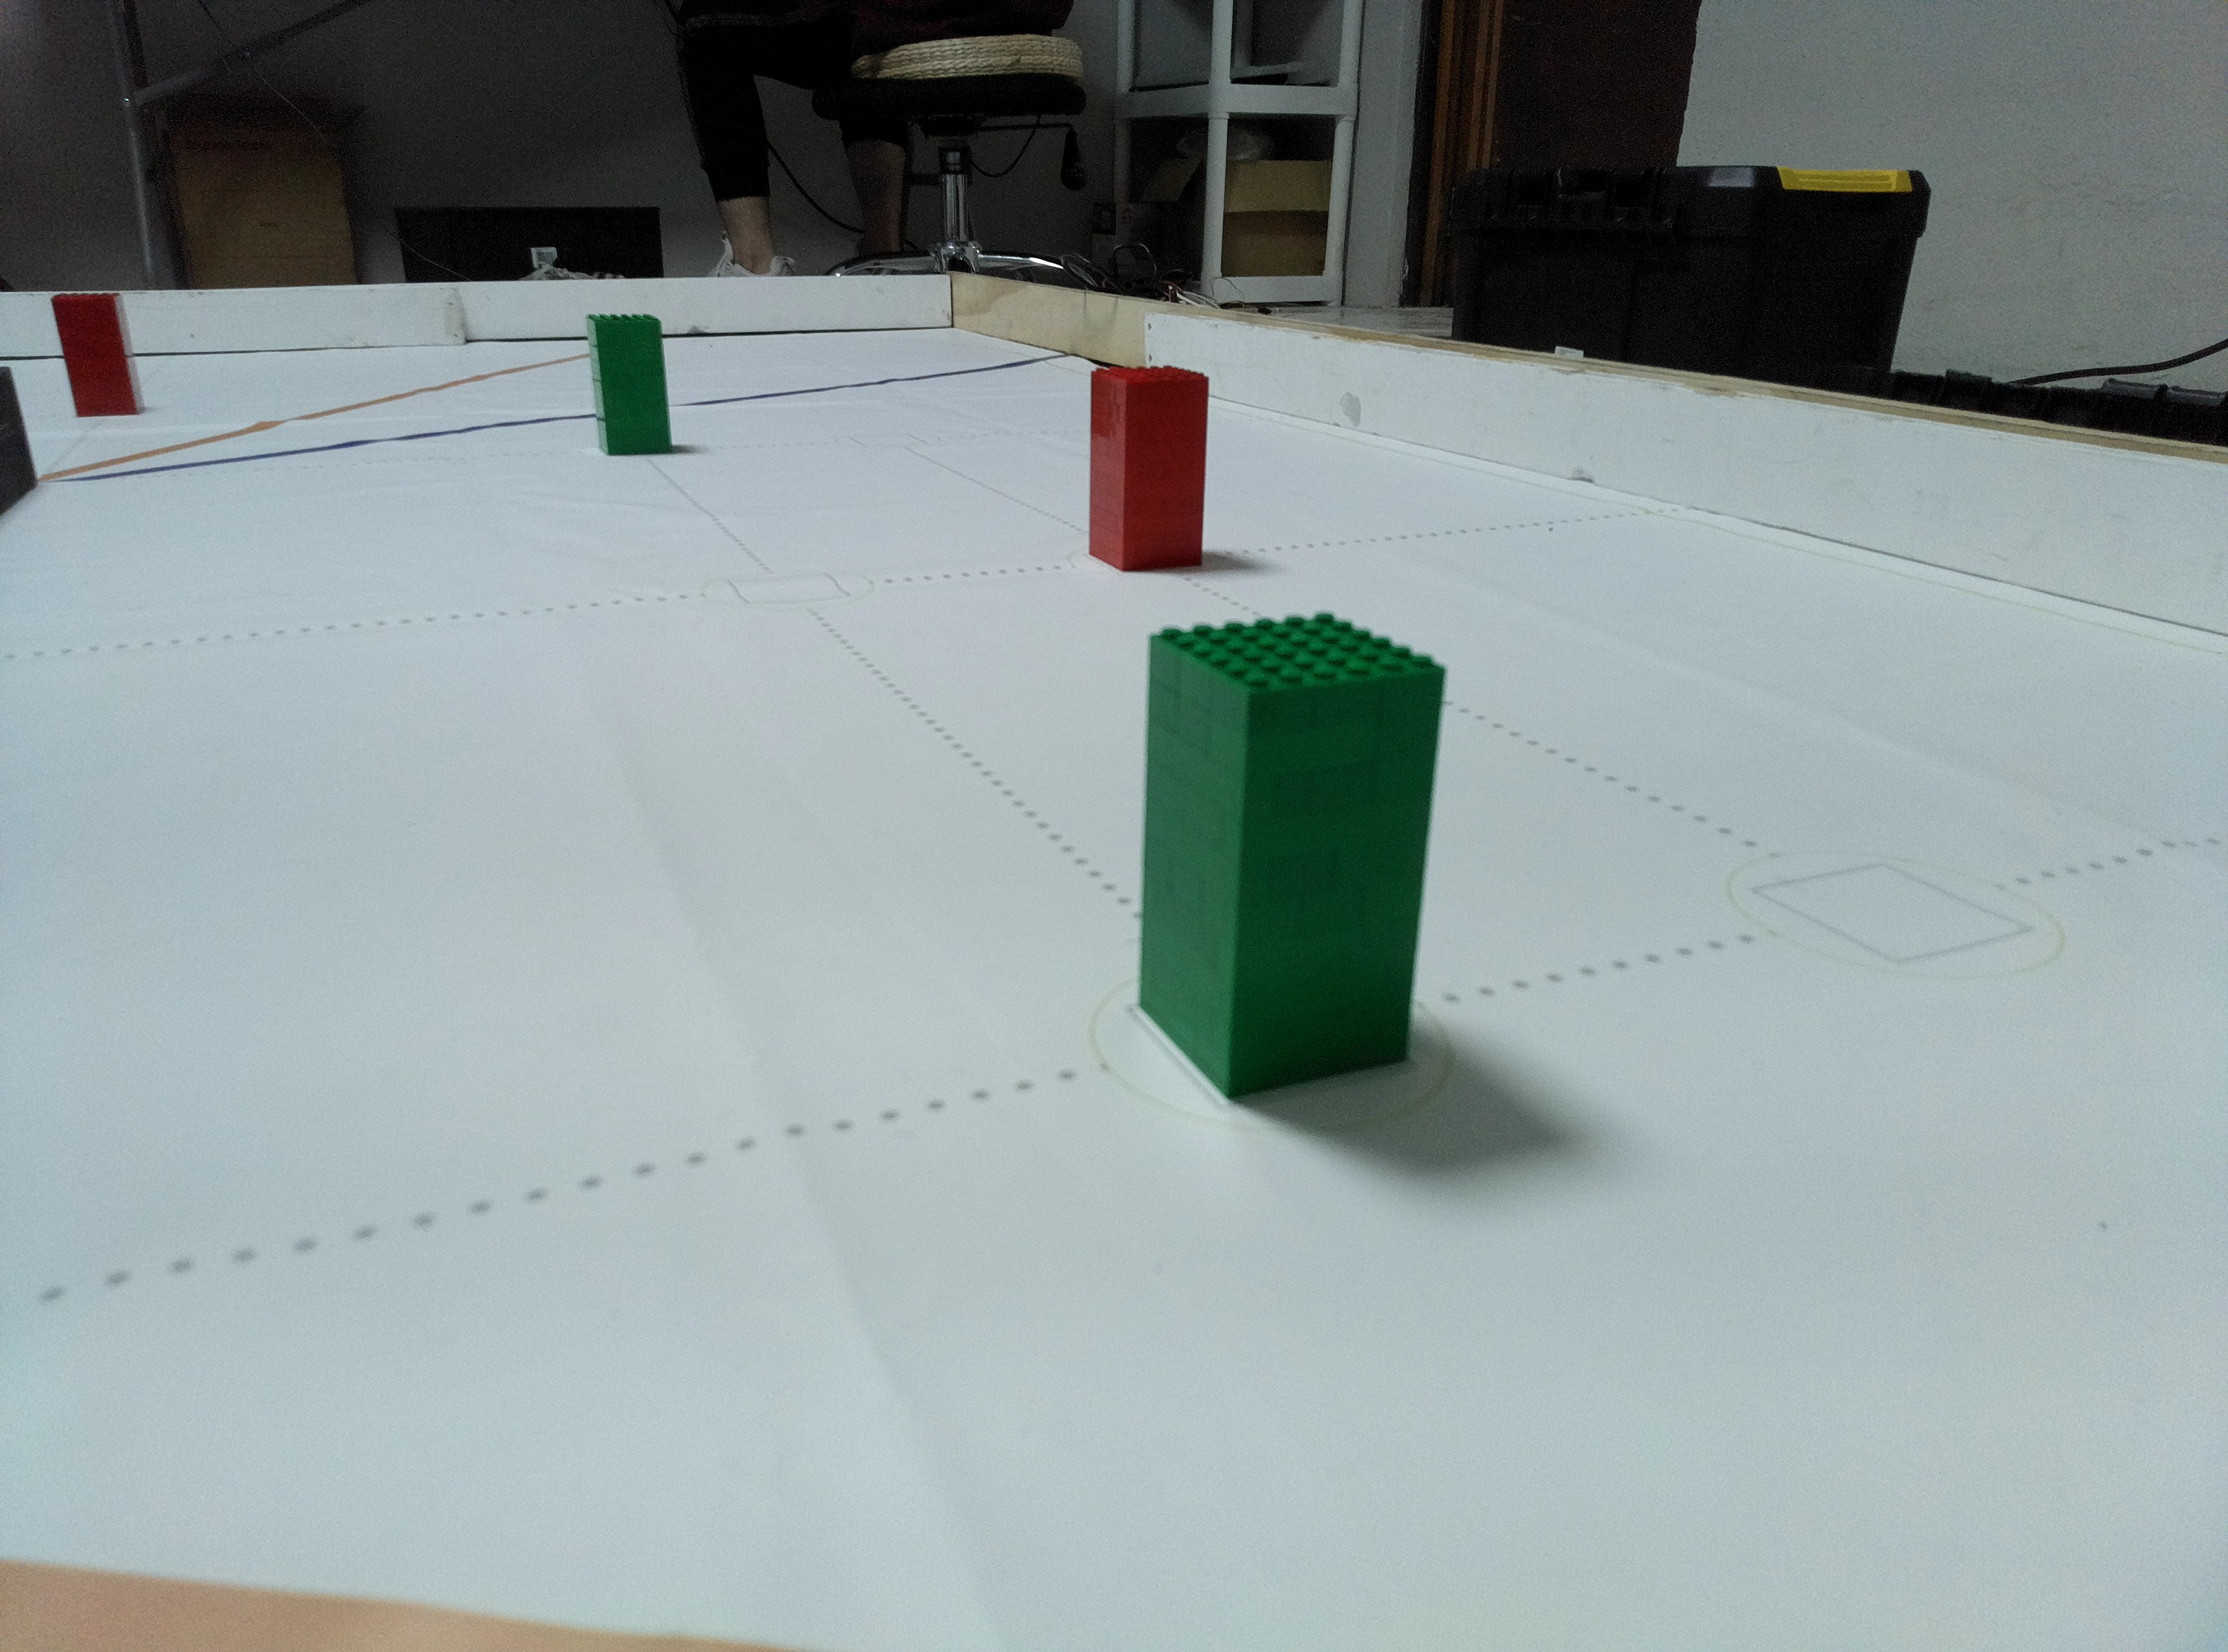greenbox: (1140, 616, 1452, 1135), (585, 309, 675, 453)
redbox: (1088, 364, 1208, 588), (52, 290, 144, 413)
